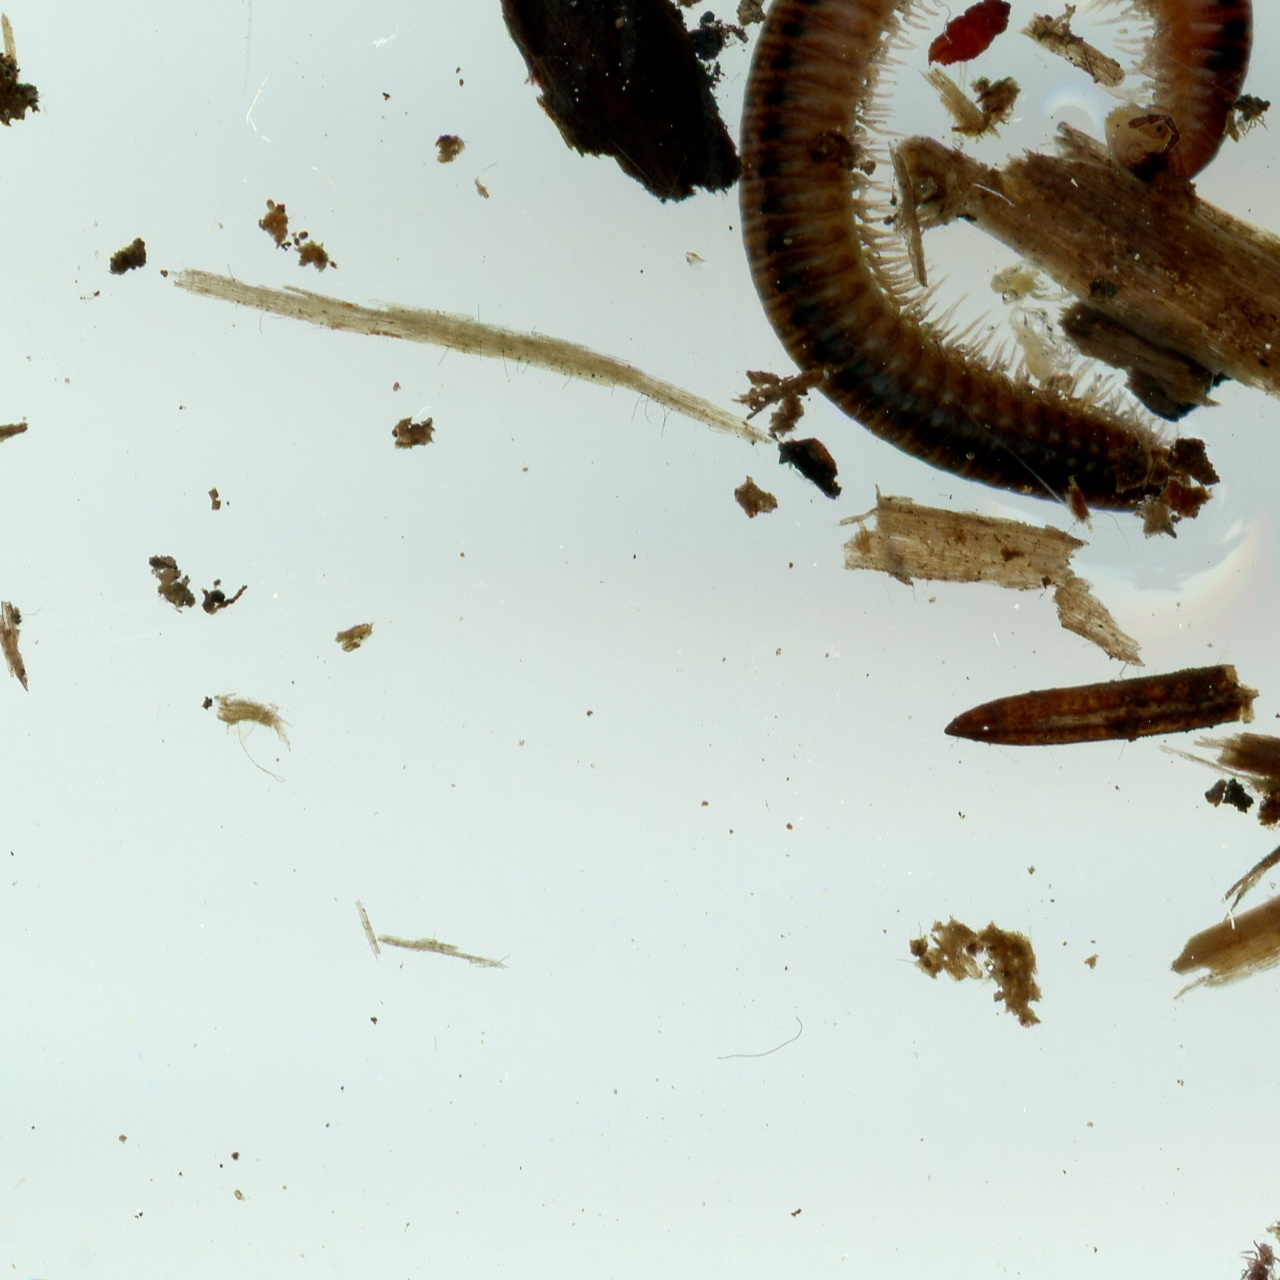arthropod: (728, 0, 1264, 525), (1006, 300, 1083, 383), (989, 260, 1074, 306), (1226, 1234, 1280, 1280), (1232, 93, 1273, 141), (0, 1264, 90, 1280)
